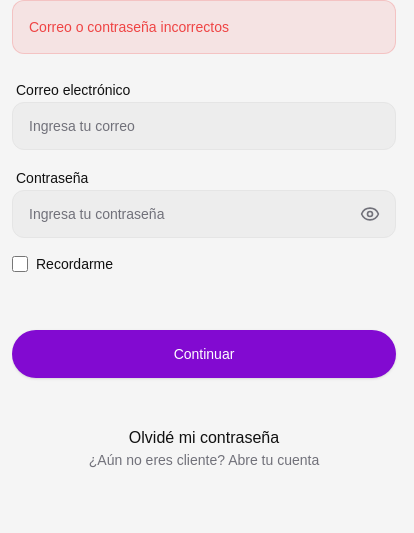
LoginForm — Pruebas de caja blanca (tabla de caminos Componente) › Camino 1,2,3,4,5,6,7,12,F — error previo en hook + formulario inválido › muestra el banner de error del hook Y los mensajes de validación inline al mismo tiempo
This screenshot has width=414, height=533.
Expected: the text "Correo o contraseña incorrectos" is shown, [12,0,396,54]
Click the button "Continuar".
click(204, 354)  # box [12,330,396,378]
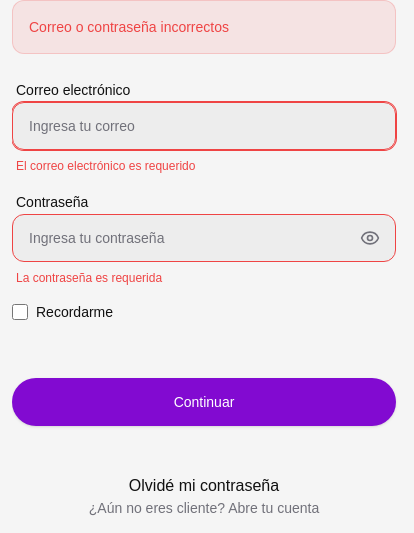
Expected: the text "Correo o contraseña incorrectos" is shown, [12,0,396,54]
Expected: the text "La contraseña es requerida" is shown, [16,271,162,285]
